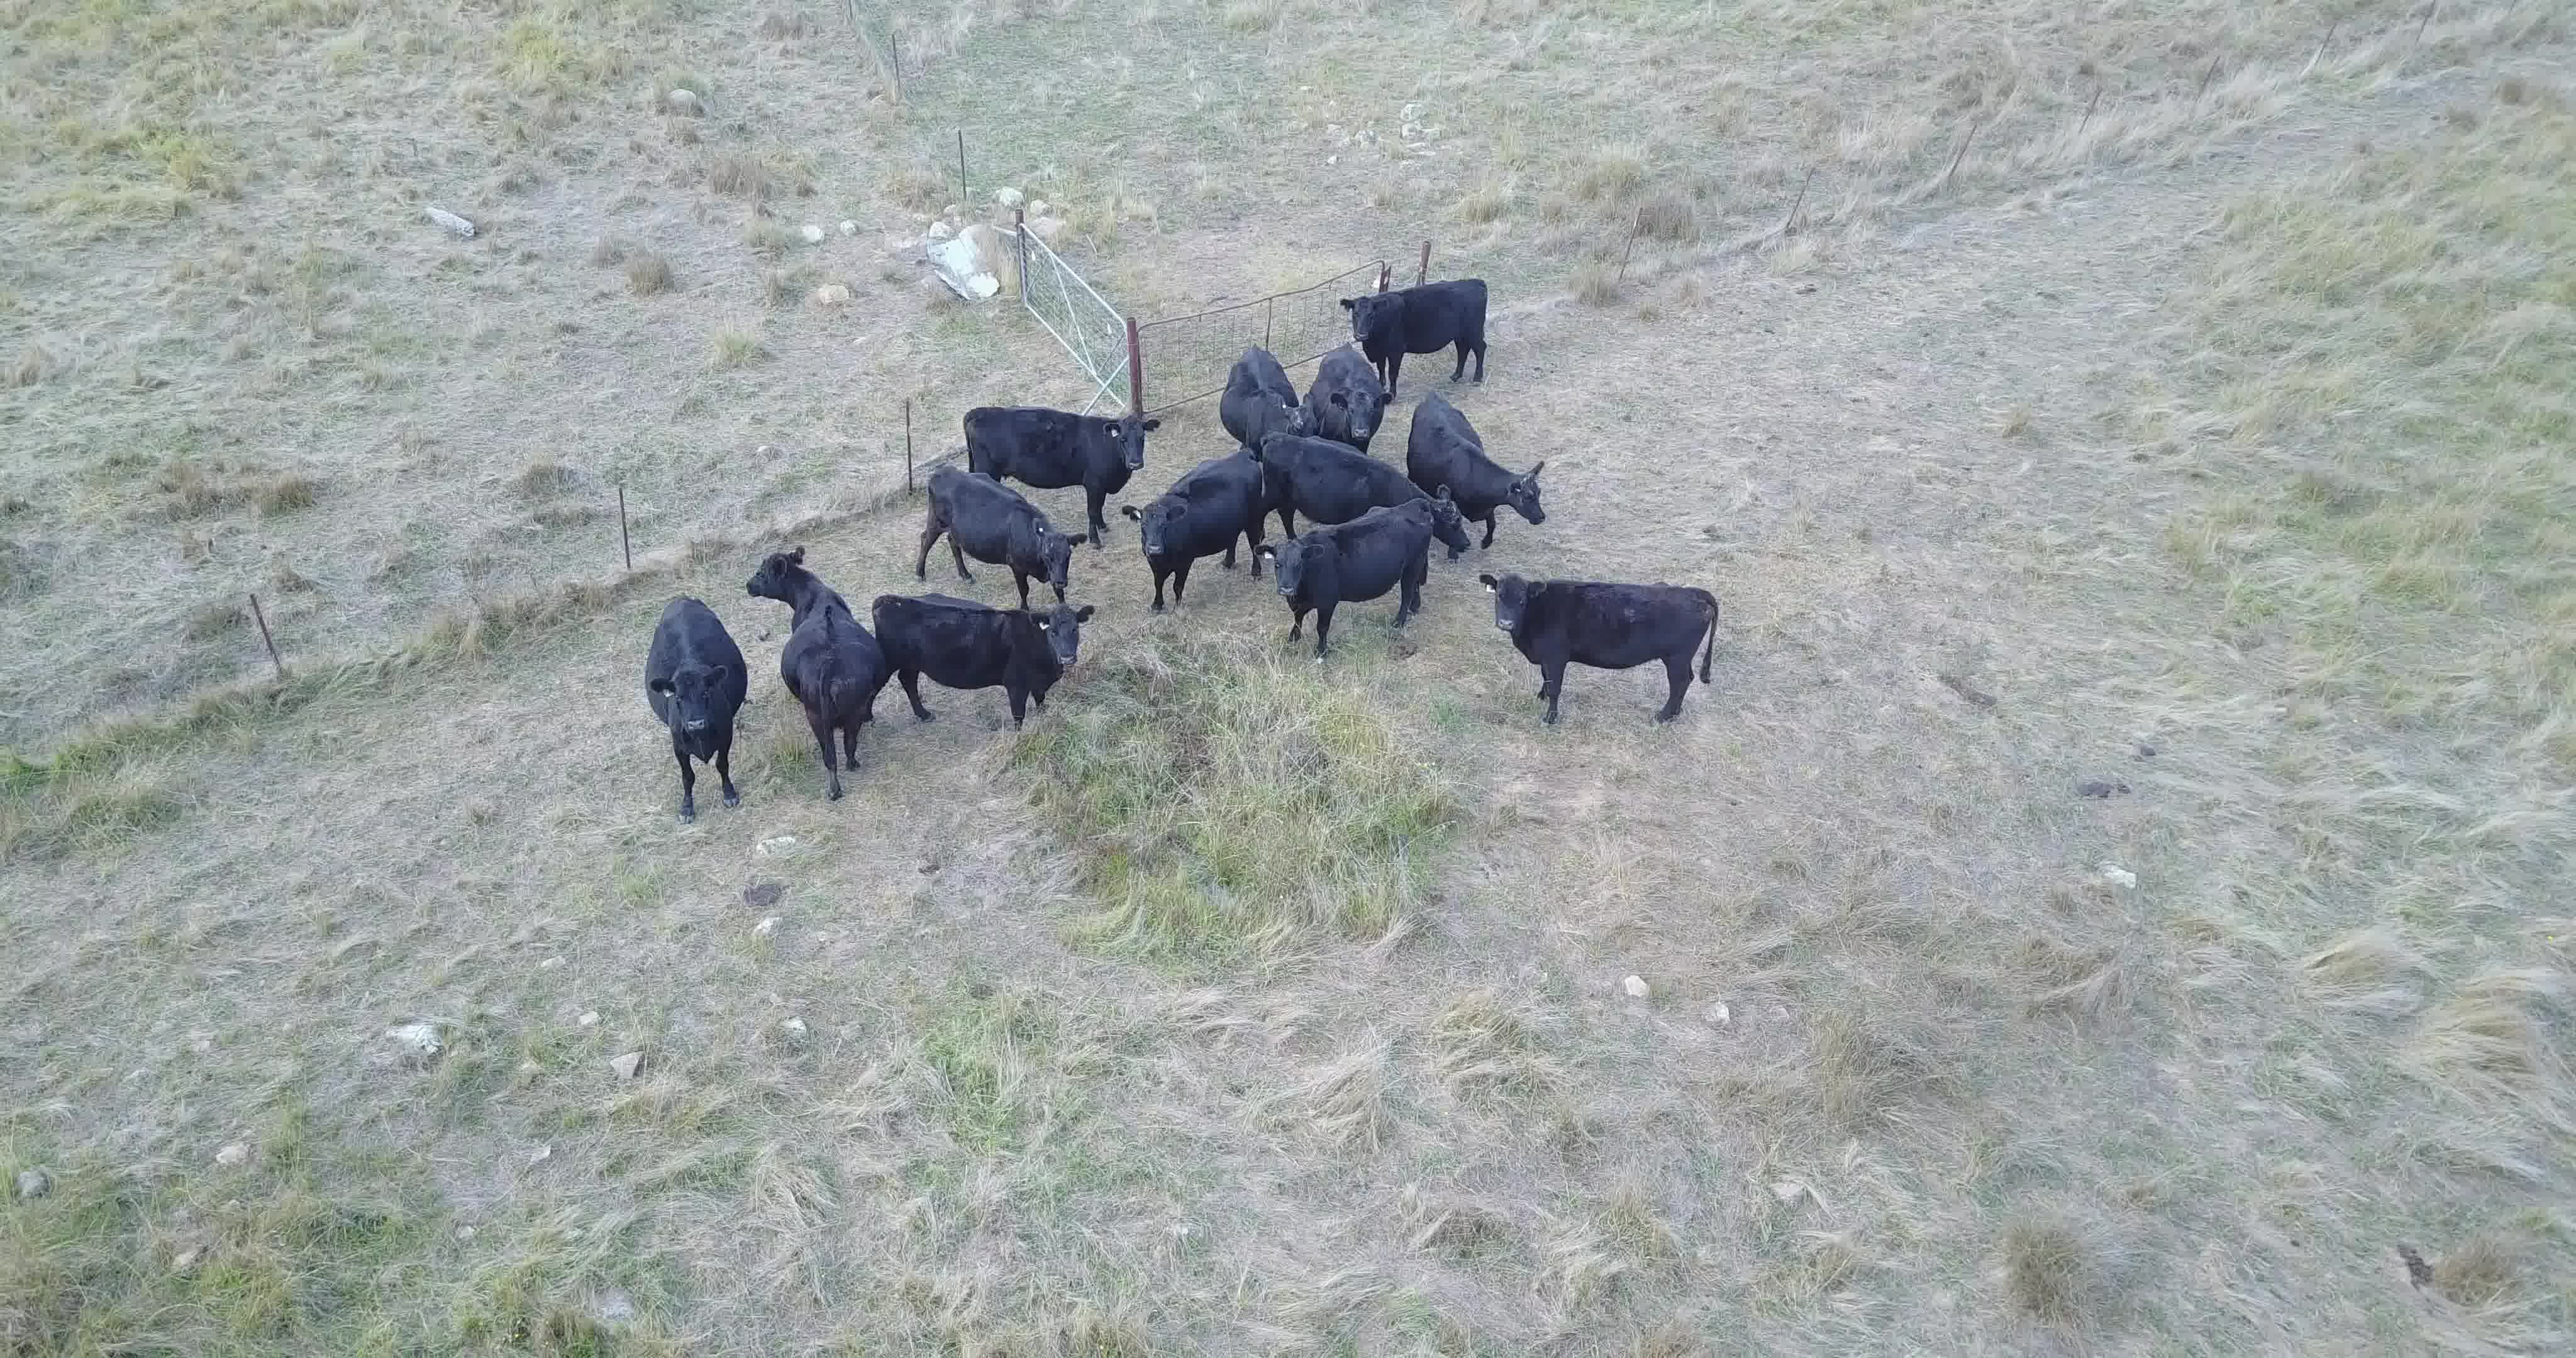cattle: (1465, 559, 1731, 741), (739, 547, 886, 808), (874, 588, 1095, 743), (952, 394, 1153, 555), (1254, 428, 1481, 557), (1249, 499, 1435, 656), (906, 463, 1087, 622), (634, 590, 753, 826), (1126, 452, 1266, 624), (1407, 395, 1571, 537), (1336, 264, 1494, 387), (1216, 346, 1324, 446), (1310, 342, 1389, 450)
